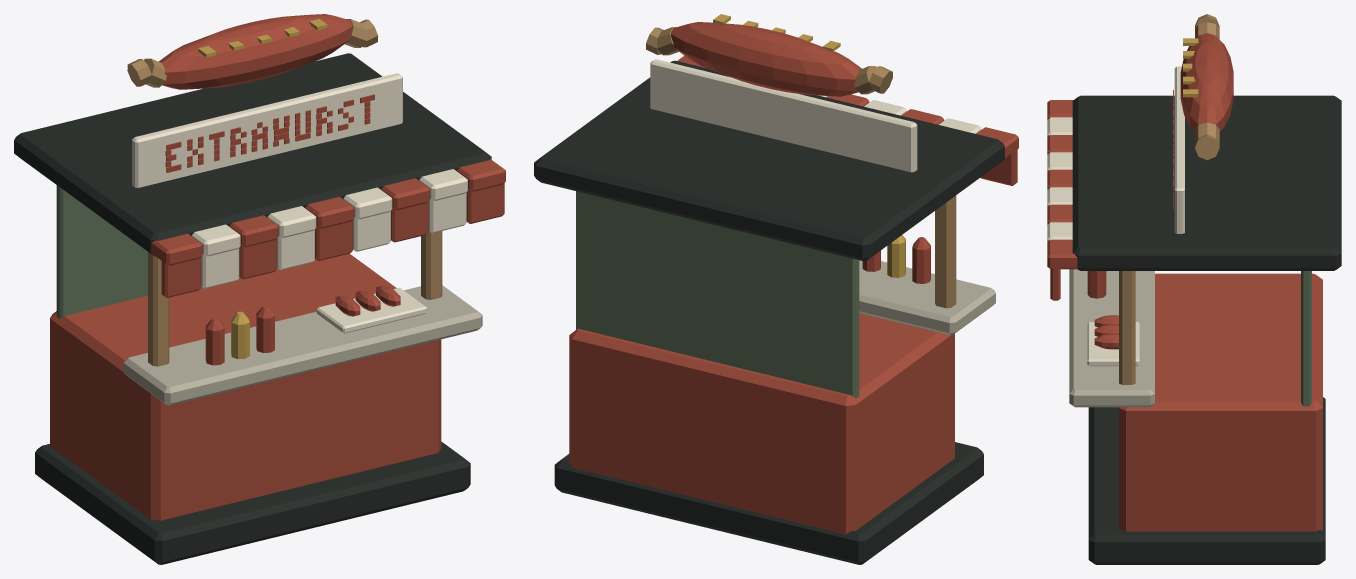
Rendered from currywurst-kiosk.glb.
The picture shows the model from 3 angles, left to right: view 1: azimuth 30°, elevation 25°; view 2: azimuth 150°, elevation 25°; view 3: azimuth 270°, elevation 25°; orthographic projection. The views are drawn at different scales.
Parts seen in each view (by area): view 1: currywurst-kiosk; view 2: currywurst-kiosk; view 3: currywurst-kiosk.
Part boxes in pixels (x1,y1,x2,y2): currywurst-kiosk: (14, 14, 505, 564); currywurst-kiosk: (534, 14, 1018, 564); currywurst-kiosk: (1047, 14, 1341, 564).
Bounding box in the file's own units: 2.7 × 3.47 × 2.13.
